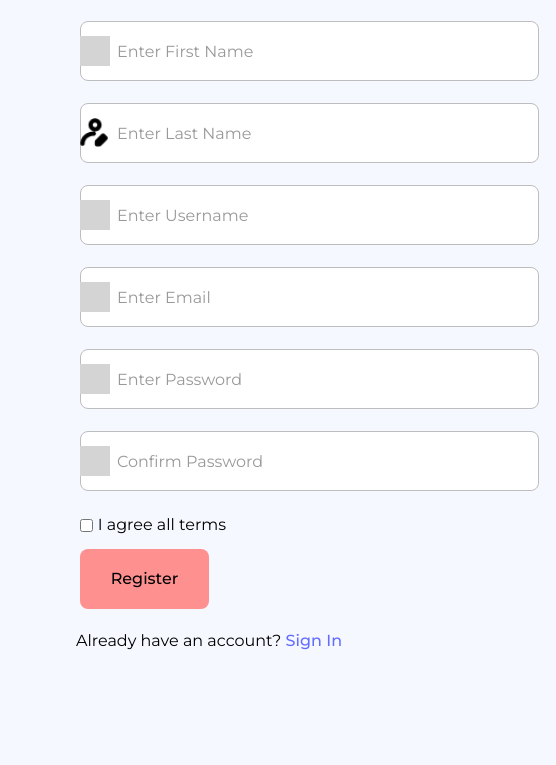
it: RegistrationForm › shows validation errors when submitting empty form
This screenshot has width=556, height=765.
Click the button "Register": coordinates (144, 579) [80,549,209,609]
(page scrolled)
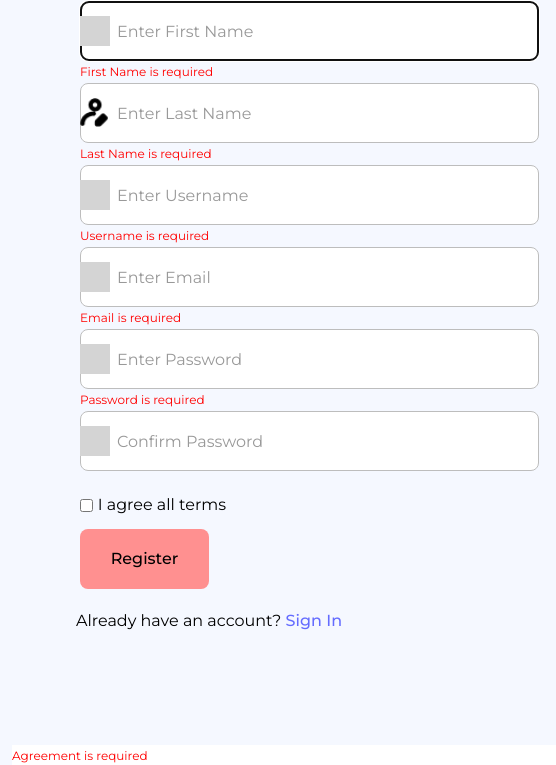
Now the text "First Name is required" is shown, box [80,63,213,81]
Now the text "Last Name is required" is shown, box [80,145,212,163]
Now the text "Username is required" is shown, box [80,227,209,245]
